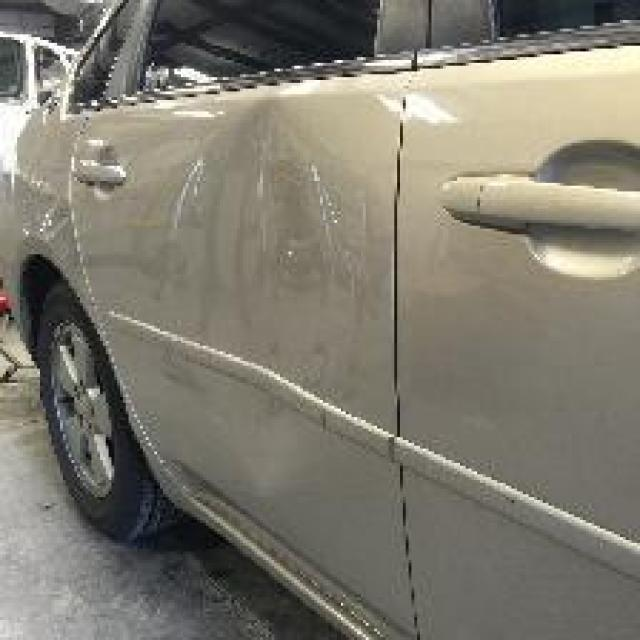damaged: (163, 106, 386, 488)
